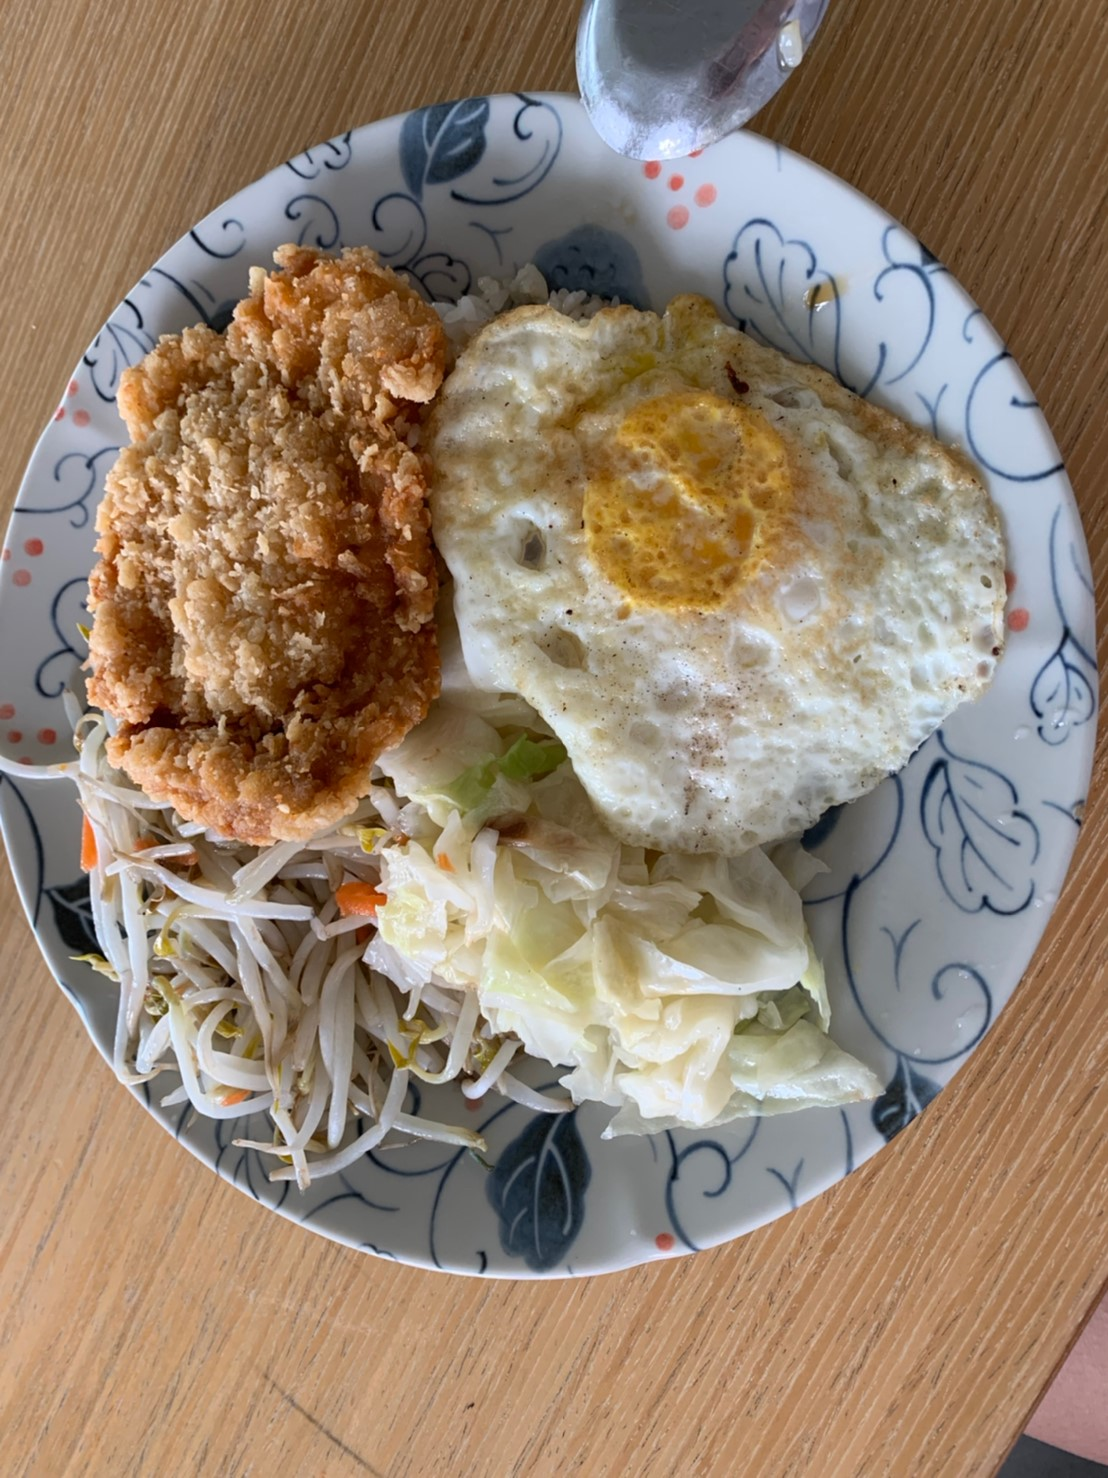chinese_cabbage: (376, 762, 862, 1153)
fried_chicken: (95, 247, 433, 827)
fried_eggs: (433, 297, 989, 834)
mung_bean_sprouts: (90, 816, 421, 1156)
